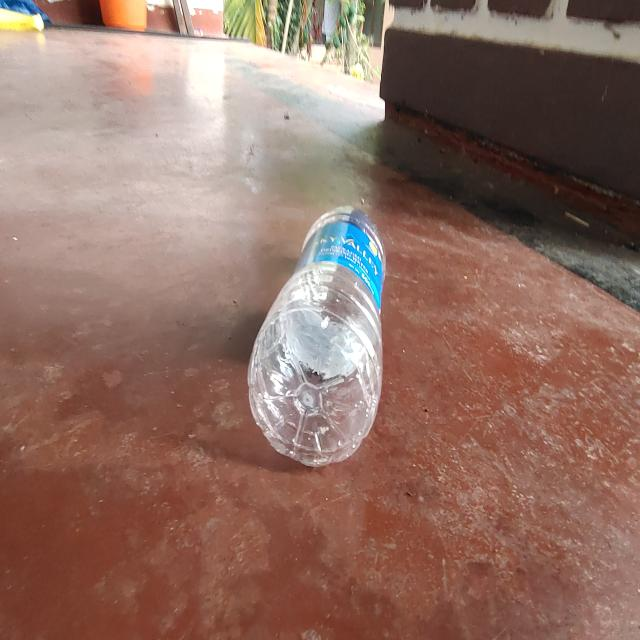plastic: (246, 201, 391, 468)
